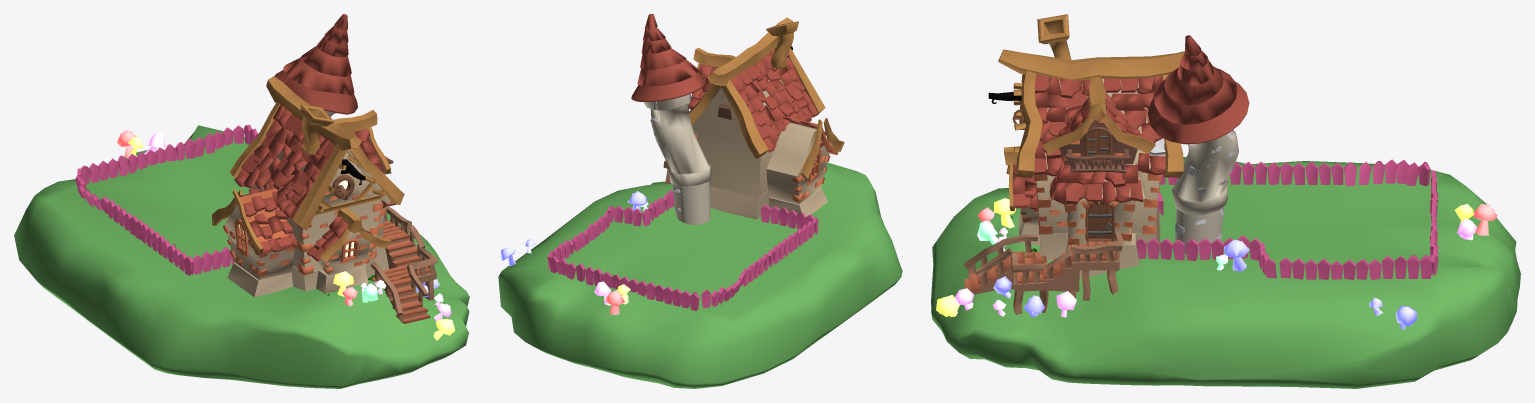
Rendered from WitchHouse.fbx.
The picture shows the model from 3 angles, left to right: view 1: azimuth 30°, elevation 25°; view 2: azimuth 150°, elevation 25°; view 3: azimuth 270°, elevation 25°; orthographic projection. The views are drawn at different scales.
Parts seen in each view (by area): view 1: House_island_Exterior_set:Groundbase_0, CHIMNEY_BEAMS_CLOTHESHOOK_0, RoofTile1_ROOF_TILES_0, polySurface414_BALCONY_RAIL_0, TOWER_ROOF_ROOF_TILES_0, HOUSE_BLOCK_MAINHOUSE_RWINDOW_FOUNDA_0, Mushroom_6_Default_Material_0, pCube557_BRIDGE_BOARDS_0, pCube634_ALCOVE_WINDOW_BRICKS_FOUNDA_0, ALCOVE_ALCOVE_WINDOW_BRICKS_FOUNDA_0, pCube609_BRIDGE_RAILING_LEGS_0, base_ALCOVE_WINDOW_BRICKS_FOUNDA_0 (+7 smaller); view 2: House_island_Exterior_set:Groundbase_0, polySurface414_BALCONY_RAIL_0, CHIMNEY_BEAMS_CLOTHESHOOK_0, TOWER_BLOCK_TOWER_0, RoofTile1_ROOF_TILES_0, HOUSE_BLOCK_MAINHOUSE_RWINDOW_FOUNDA_0, TOWER_ROOF_ROOF_TILES_0, ALCOVE_ALCOVE_WINDOW_BRICKS_FOUNDA_0, pCube702_MAINHOUSE_RWINDOW_FOUNDA_0, Mushroom_6_Default_Material_0, base_ALCOVE_WINDOW_BRICKS_FOUNDA_0, pCube634_ALCOVE_WINDOW_BRICKS_FOUNDA_0; view 3: House_island_Exterior_set:Groundbase_0, RoofTile1_ROOF_TILES_0, CHIMNEY_BEAMS_CLOTHESHOOK_0, polySurface414_BALCONY_RAIL_0, TOWER_ROOF_ROOF_TILES_0, Mushroom_6_Default_Material_0, TOWER_BLOCK_TOWER_0, pCube634_ALCOVE_WINDOW_BRICKS_FOUNDA_0, Table_Leg208_BRIDGE_RAILING_LEGS_0, pCube609_BRIDGE_RAILING_LEGS_0, HOUSE_BLOCK_MAINHOUSE_RWINDOW_FOUNDA_0, pCube543_BRIDGE_FOUNDATIONS_0 (+8 smaller).
Part boxes in pixels (left/top/right/bottom): House_island_Exterior_set:Groundbase_0: left=14, top=125, right=469, bottom=388; CHIMNEY_BEAMS_CLOTHESHOOK_0: left=212, top=76, right=404, bottom=262; RoofTile1_ROOF_TILES_0: left=234, top=104, right=396, bottom=261; polySurface414_BALCONY_RAIL_0: left=75, top=124, right=258, bottom=275; TOWER_ROOF_ROOF_TILES_0: left=274, top=14, right=357, bottom=114; HOUSE_BLOCK_MAINHOUSE_RWINDOW_FOUNDA_0: left=249, top=127, right=381, bottom=271; Mushroom_6_Default_Material_0: left=117, top=130, right=455, bottom=340; pCube557_BRIDGE_BOARDS_0: left=371, top=220, right=430, bottom=323; pCube634_ALCOVE_WINDOW_BRICKS_FOUNDA_0: left=223, top=155, right=386, bottom=277; ALCOVE_ALCOVE_WINDOW_BRICKS_FOUNDA_0: left=225, top=204, right=294, bottom=279; pCube609_BRIDGE_RAILING_LEGS_0: left=370, top=206, right=437, bottom=315; base_ALCOVE_WINDOW_BRICKS_FOUNDA_0: left=227, top=262, right=292, bottom=297; House_island_Exterior_set:Groundbase_0: left=498, top=162, right=902, bottom=388; polySurface414_BALCONY_RAIL_0: left=547, top=190, right=818, bottom=310; CHIMNEY_BEAMS_CLOTHESHOOK_0: left=689, top=17, right=844, bottom=178; TOWER_BLOCK_TOWER_0: left=644, top=93, right=711, bottom=224; RoofTile1_ROOF_TILES_0: left=688, top=48, right=831, bottom=152; HOUSE_BLOCK_MAINHOUSE_RWINDOW_FOUNDA_0: left=692, top=79, right=806, bottom=197; TOWER_ROOF_ROOF_TILES_0: left=631, top=14, right=706, bottom=101; ALCOVE_ALCOVE_WINDOW_BRICKS_FOUNDA_0: left=766, top=122, right=829, bottom=203; pCube702_MAINHOUSE_RWINDOW_FOUNDA_0: left=710, top=186, right=769, bottom=219; Mushroom_6_Default_Material_0: left=500, top=191, right=648, bottom=314; base_ALCOVE_WINDOW_BRICKS_FOUNDA_0: left=768, top=188, right=827, bottom=216; pCube634_ALCOVE_WINDOW_BRICKS_FOUNDA_0: left=650, top=116, right=830, bottom=211; House_island_Exterior_set:Groundbase_0: left=931, top=157, right=1520, bottom=388; RoofTile1_ROOF_TILES_0: left=1012, top=75, right=1165, bottom=208; CHIMNEY_BEAMS_CLOTHESHOOK_0: left=988, top=14, right=1184, bottom=211; polySurface414_BALCONY_RAIL_0: left=1136, top=159, right=1438, bottom=280; TOWER_ROOF_ROOF_TILES_0: left=1148, top=35, right=1249, bottom=144; Mushroom_6_Default_Material_0: left=936, top=198, right=1497, bottom=329; TOWER_BLOCK_TOWER_0: left=1172, top=130, right=1238, bottom=254; pCube634_ALCOVE_WINDOW_BRICKS_FOUNDA_0: left=1020, top=119, right=1235, bottom=247; Table_Leg208_BRIDGE_RAILING_LEGS_0: left=968, top=241, right=1119, bottom=314; pCube609_BRIDGE_RAILING_LEGS_0: left=964, top=232, right=1122, bottom=276; HOUSE_BLOCK_MAINHOUSE_RWINDOW_FOUNDA_0: left=1036, top=172, right=1159, bottom=233; pCube543_BRIDGE_FOUNDATIONS_0: left=972, top=251, right=1119, bottom=294.
Bounding box in the file's own units: 2142 × 1765 × 3019.
